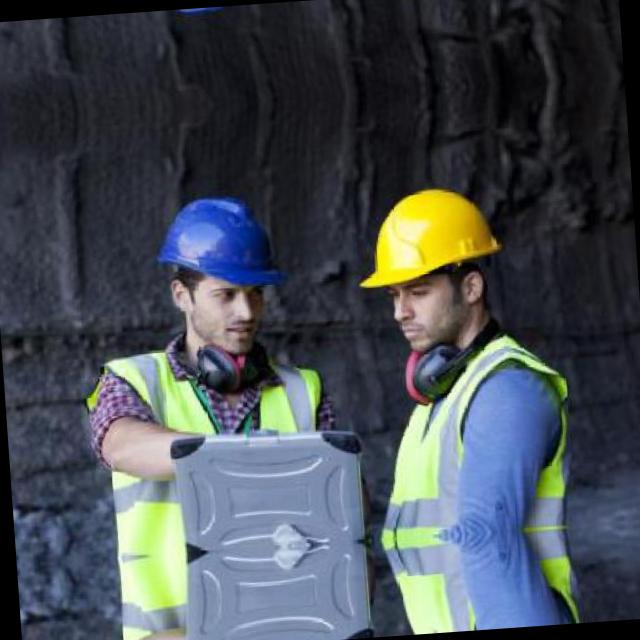helmet: (338, 166, 510, 361), (138, 178, 301, 368)
